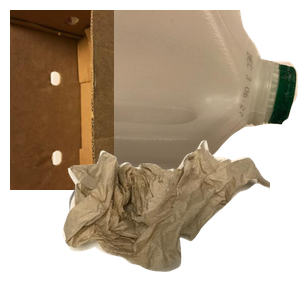cardboard: (10, 10, 211, 190)
glass: (67, 172, 229, 300)
plastic: (114, 10, 300, 179)
trash: (60, 138, 300, 300)
